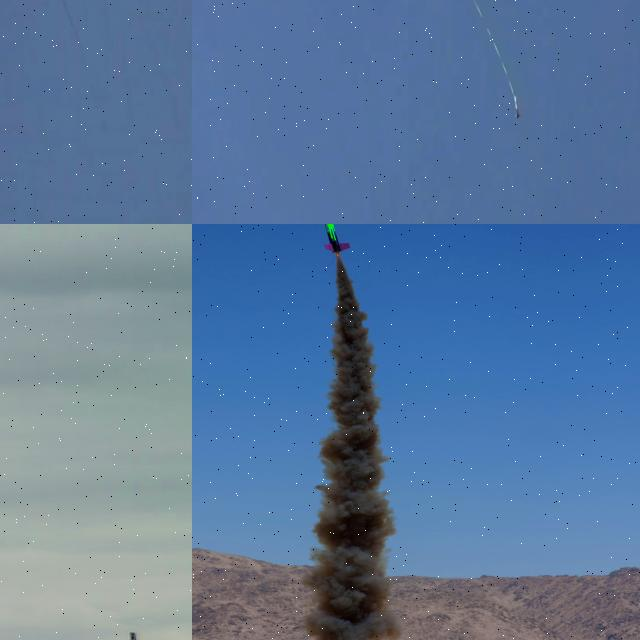Rocket: (310, 224, 350, 255), (513, 95, 521, 119)
